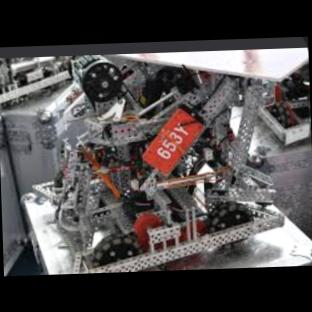Robot: (30, 52, 283, 273)
